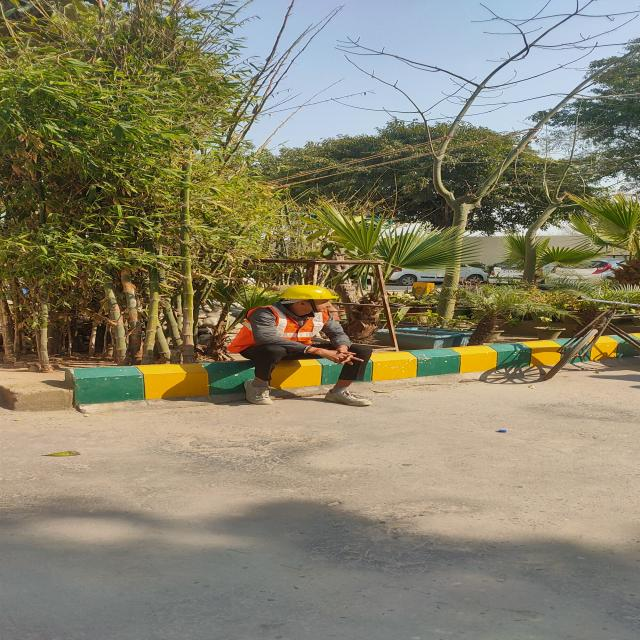safe: (227, 285, 372, 405)
